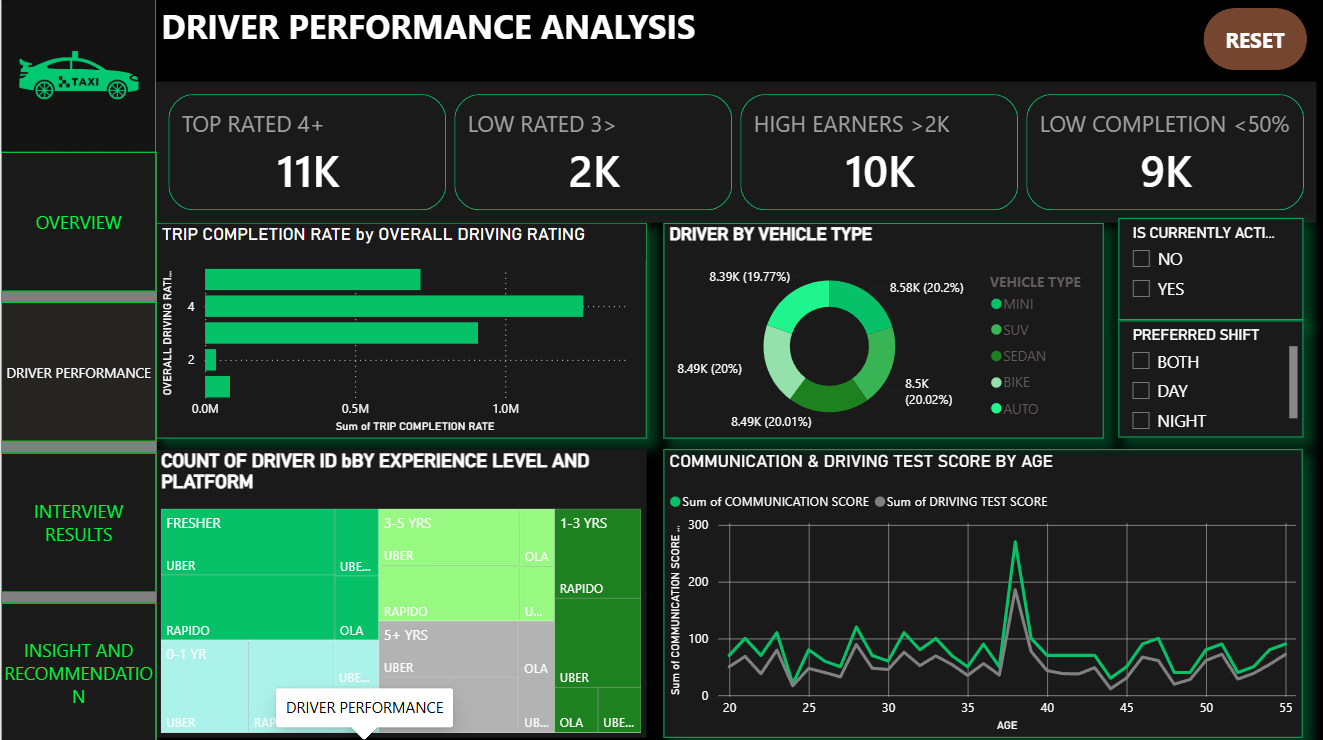

This screenshot's page, from the dashboard's own definition file:
{"tool":"powerbi","page":{"name":"DRIVER PERFORMANCE","canvas":[1280,720],"ordinal":1},"visuals":[{"type":"cardVisual","fields":{"Data":["measure.TOP RATED 4+","measure.LOW RATED 3>","measure.HIGH EARNERS >2K","measure.LOW COMPLETION <50%"]},"box":[150,80.7,1122,136],"z":0},{"type":"donutChart","title":"DRIVER BY VEHICLE TYPE","fields":{"Category":["CLEANED UBER DRIVER DATASET.VEHICLE TYPE"],"Y":["CountNonNull(CLEANED UBER DRIVER DATASET.DRIVER ID)"]},"box":[640,216.7,425,208.3],"z":1000},{"type":"shape","box":[0,0,149.2,716.4],"z":2000},{"type":"clusteredBarChart","title":"TRIP COMPLETION RATE by OVERALL DRIVING RATING","fields":{"Y":["Sum(CLEANED UBER DRIVER DATASET.TRIP COMPLETION RATE)"],"Category":["CLEANED UBER DRIVER DATASET.OVERALL DRIVING RATING"]},"box":[150,216.7,473.3,208.3],"z":3000},{"type":"treemap","title":"COUNT OF  DRIVER ID bBY EXPERIENCE LEVEL AND PLATFORM","fields":{"Group":["CLEANED UBER DRIVER DATASET.EXPERIENCE LEVEL"],"Values":["Count(CLEANED UBER DRIVER DATASET.DRIVER ID)"],"Details":["CLEANED UBER DRIVER DATASET.PLATFORM"]},"box":[150,435,473.3,278.3],"z":5000},{"type":"textbox","box":[150,0,546.7,80],"z":6000},{"type":"slicer","fields":{"Values":["CLEANED UBER DRIVER DATASET.IS CURRENTLY ACTIVE"]},"box":[1078.6,212.9,178.6,98.6],"z":7000},{"type":"slicer","fields":{"Values":["CLEANED UBER DRIVER DATASET.PREFERED  SHIFT"]},"box":[1078.6,311.4,178.6,112.9],"z":8000},{"type":"actionButton","box":[1160,10,100,60],"z":8001},{"type":"pageNavigator","box":[0,148.3,150,571.7],"z":8002},{"type":"lineChart","title":" COMMUNICATION & DRIVING TEST SCORE BY AGE","fields":{"Y":["Sum(CLEANED UBER DRIVER DATASET.COMMUNICATION SCORE)","Sum(CLEANED UBER DRIVER DATASET.DRIVING TEST SCORE)"],"Category":["CLEANED UBER DRIVER DATASET.AGE"]},"box":[640,435,616.7,278.3],"z":8003},{"type":"image","box":[0,0,150,148.3],"z":8004}]}

Visuals, with their boxes in screenshot pixels (x1, y1, x2, y2), scaled from the page's 1280x720 canvas onto the 1323x740 screenshot:
cardVisual - measure.TOP RATED 4+ x measure.LOW RATED 3>: x1=155 y1=83 x2=1315 y2=223
"DRIVER BY VEHICLE TYPE" donutChart: x1=662 y1=223 x2=1101 y2=437
shape: x1=0 y1=0 x2=154 y2=736
"TRIP COMPLETION RATE by OVERALL DRIVING RATING" clusteredBarChart: x1=155 y1=223 x2=644 y2=437
"COUNT OF  DRIVER ID bBY EXPERIENCE LEVEL AND PLATFORM" treemap: x1=155 y1=447 x2=644 y2=733
textbox: x1=155 y1=0 x2=720 y2=82
slicer - CLEANED UBER DRIVER DATASET.IS CURRENTLY ACTIVE: x1=1115 y1=219 x2=1299 y2=320
slicer - CLEANED UBER DRIVER DATASET.PREFERED  SHIFT: x1=1115 y1=320 x2=1299 y2=436
actionButton: x1=1199 y1=10 x2=1302 y2=72
pageNavigator: x1=0 y1=152 x2=155 y2=739
" COMMUNICATION & DRIVING TEST SCORE BY AGE" lineChart: x1=662 y1=447 x2=1299 y2=733
image: x1=0 y1=0 x2=155 y2=152
